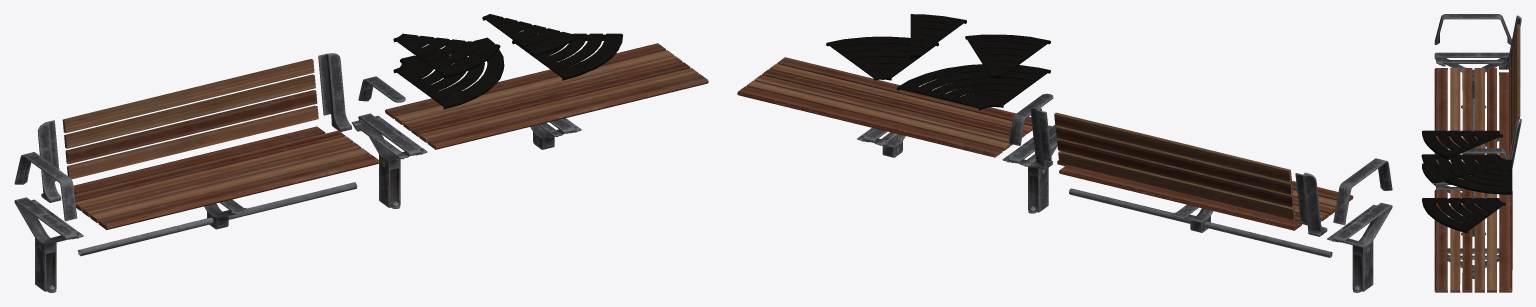
Rendered from modular_street_seating.glb.
3 views of the same model, side by side, from view 1: azimuth 30°, elevation 25°; view 2: azimuth 150°, elevation 25°; view 3: azimuth 270°, elevation 25° (orthographic). The views are drawn at different scales.
Visible parts, largest first — view 1: seat_back, seat, seat_bench, connector_90, legs_double, connector_45, legs_single, connector_60, crossbar, connector_30, back_support_l, arm_rest_01 (+4 smaller); view 2: seat_bench, seat_back, connector_90, seat, connector_60, legs_single, connector_45, crossbar, legs_double, connector_30, arm_rest_01, back_support_r (+4 smaller); view 3: seat_bench, seat, connector_90, connector_60, connector_45, seat_back, connector_30, legs_single, arm_rest_01, arm_rest_02, suspended_support_02, legs_double (+3 smaller).
Boxes of the visible parts, left/top/right/bottom form: seat_back: left=62, top=59, right=318, bottom=179; seat: left=73, top=126, right=379, bottom=229; seat_bench: left=385, top=43, right=708, bottom=149; connector_90: left=393, top=37, right=504, bottom=109; legs_double: left=351, top=113, right=427, bottom=208; connector_45: left=393, top=33, right=500, bottom=78; legs_single: left=14, top=197, right=83, bottom=292; connector_60: left=512, top=33, right=622, bottom=80; crossbar: left=78, top=182, right=357, bottom=256; connector_30: left=482, top=14, right=577, bottom=56; back_support_l: left=318, top=53, right=351, bottom=131; arm_rest_01: left=14, top=152, right=77, bottom=221; seat_bench: left=737, top=57, right=1032, bottom=157; seat_back: left=1054, top=112, right=1295, bottom=220; connector_90: left=897, top=64, right=1050, bottom=110; seat: left=1057, top=160, right=1353, bottom=230; connector_60: left=826, top=36, right=938, bottom=80; legs_single: left=1327, top=202, right=1392, bottom=292; connector_45: left=965, top=34, right=1050, bottom=78; crossbar: left=1069, top=188, right=1332, bottom=257; legs_double: left=1002, top=124, right=1058, bottom=213; connector_30: left=910, top=14, right=966, bottom=57; arm_rest_01: left=1333, top=158, right=1392, bottom=225; back_support_r: left=1295, top=172, right=1327, bottom=236; seat_bench: left=1434, top=189, right=1512, bottom=292; seat: left=1434, top=68, right=1509, bottom=163; connector_90: left=1421, top=154, right=1512, bottom=194; connector_60: left=1422, top=198, right=1505, bottom=232; connector_45: left=1422, top=130, right=1502, bottom=159; seat_back: left=1509, top=24, right=1520, bottom=157; connector_30: left=1422, top=163, right=1500, bottom=184; legs_single: left=1434, top=52, right=1509, bottom=108; arm_rest_01: left=1434, top=14, right=1511, bottom=44; arm_rest_02: left=1461, top=148, right=1508, bottom=159; suspended_support_02: left=1447, top=248, right=1499, bottom=278; legs_double: left=1435, top=181, right=1486, bottom=236.
Size of the model in its own units: 4.34 by 0.951 by 0.7729.
5 materials, 5 textured.
